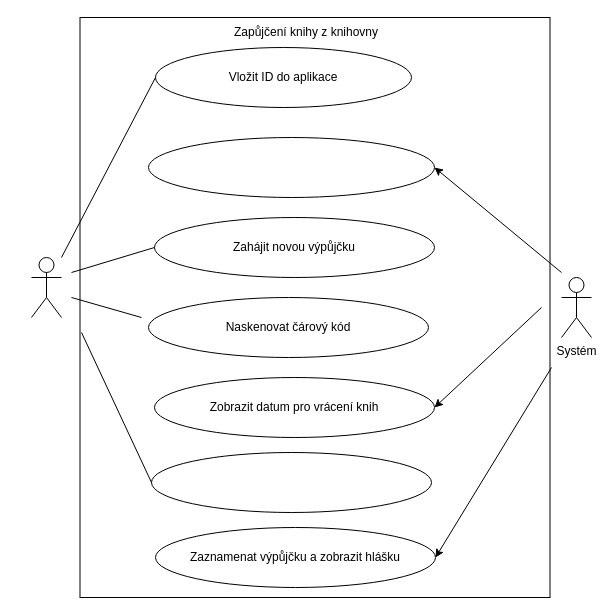
The diagram is 614 pixels wide and 615 high, and some of its shapes have lost their labels. Here are the shapes that lost their labels. From the top down, the box of each, then its label:
(148, 136, 434, 198): Načíst informace pro dané ID
(30, 256, 62, 318): Knihvovník
(150, 452, 432, 512): Potvrdit výpůjčku
